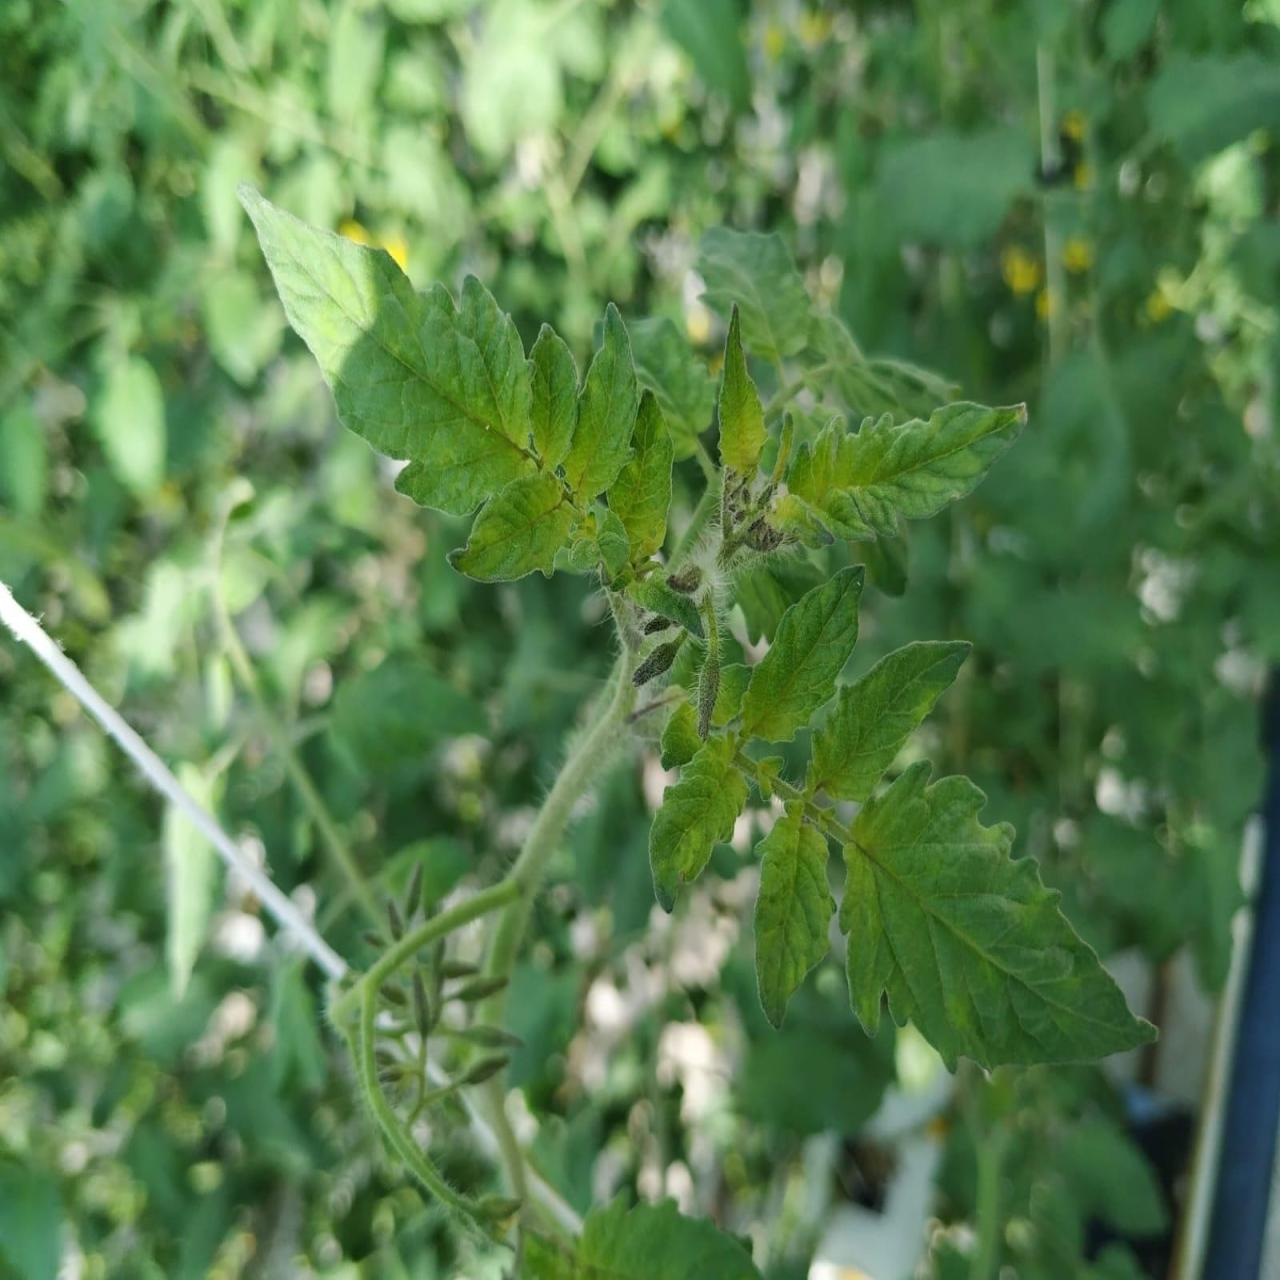T_L_R: (241, 188, 539, 515), (840, 764, 1155, 1068), (789, 404, 1026, 542), (809, 644, 971, 801), (741, 568, 864, 741), (756, 804, 836, 1028), (651, 738, 749, 911), (564, 304, 639, 508), (451, 471, 581, 583), (531, 324, 579, 471)
